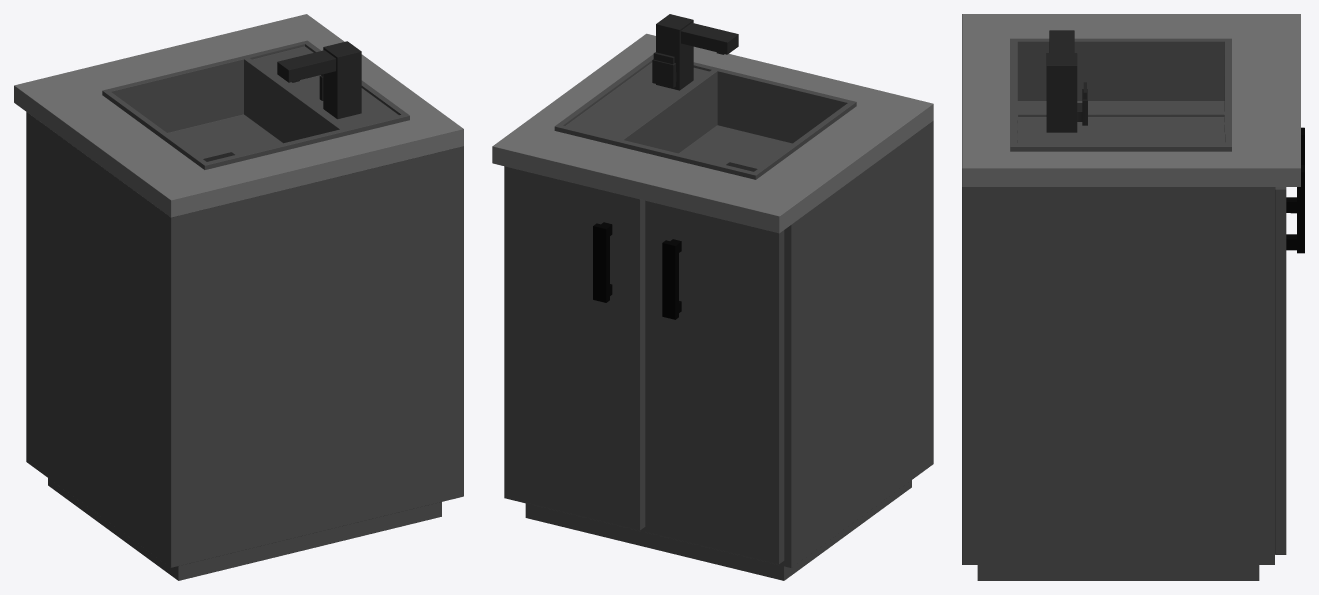
File: LavaMano.fbx
3 views of the same model, side by side, from view 1: azimuth 30°, elevation 25°; view 2: azimuth 150°, elevation 25°; view 3: azimuth 270°, elevation 25° (orthographic). The views are drawn at different scales.
Visible parts, largest first — view 1: Unit_5; view 2: Unit_5; view 3: Unit_5.
Part boxes in pixels (box(x1,y1,x2,y2)): Unit_5: box(14, 14, 463, 580); Unit_5: box(492, 14, 933, 580); Unit_5: box(962, 14, 1304, 580).
Bounding box in the file's own units: 70 × 104 × 65.72.
1 material, 1 textured.
